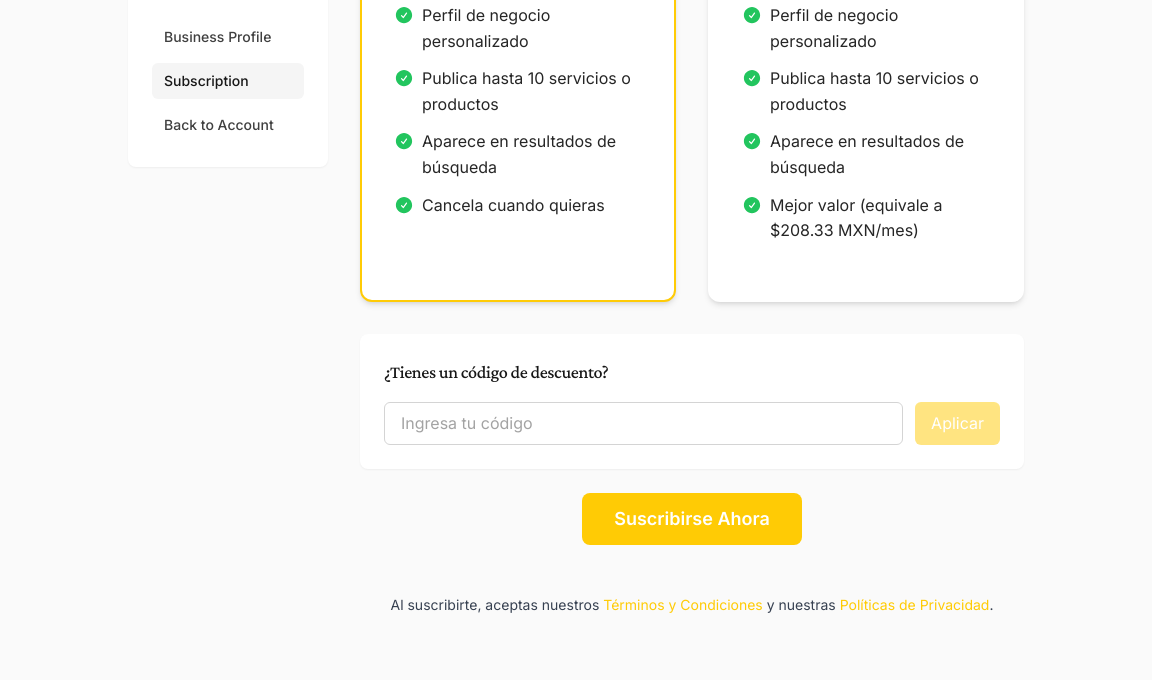
Coupon Functionality › validates AMIGOSSLPWAY coupon successfully
(page scrolled)
Note: Enter the coupon code
Type "AMIGOSSLPWAY" into the field with placeholder "Ingresa tu código". click: (644, 424)
box: x1=384 y1=402 x2=903 y2=445
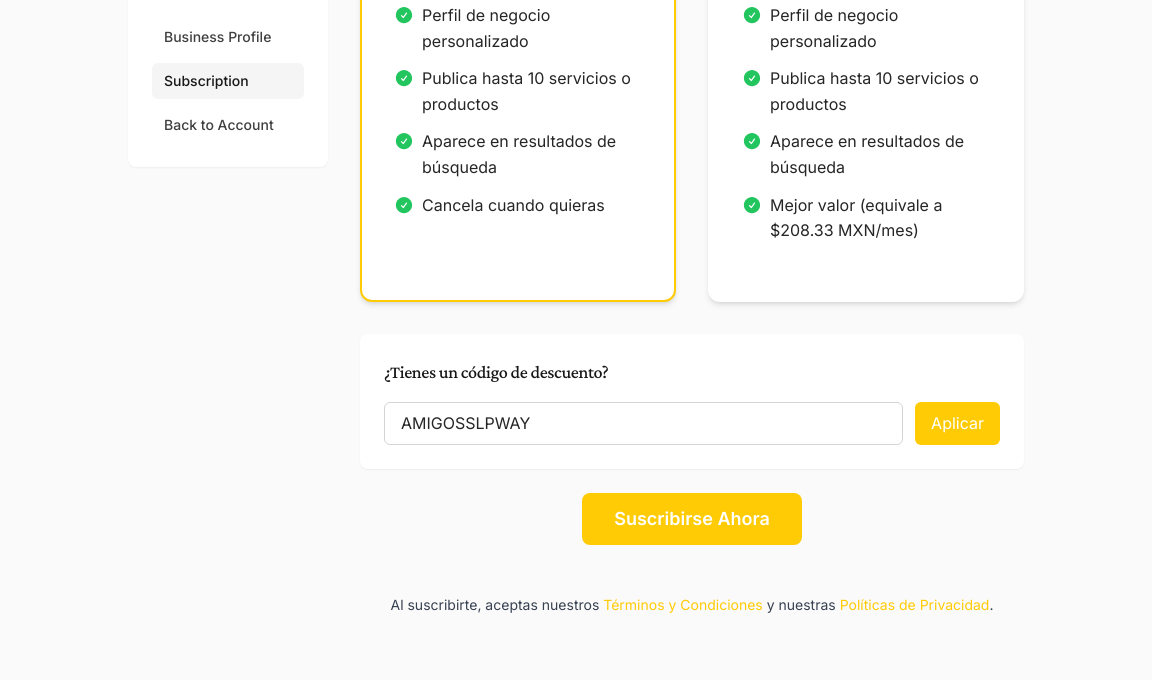
Click the button "Aplicar". click: (958, 424)
box: x1=915 y1=402 x2=1000 y2=445
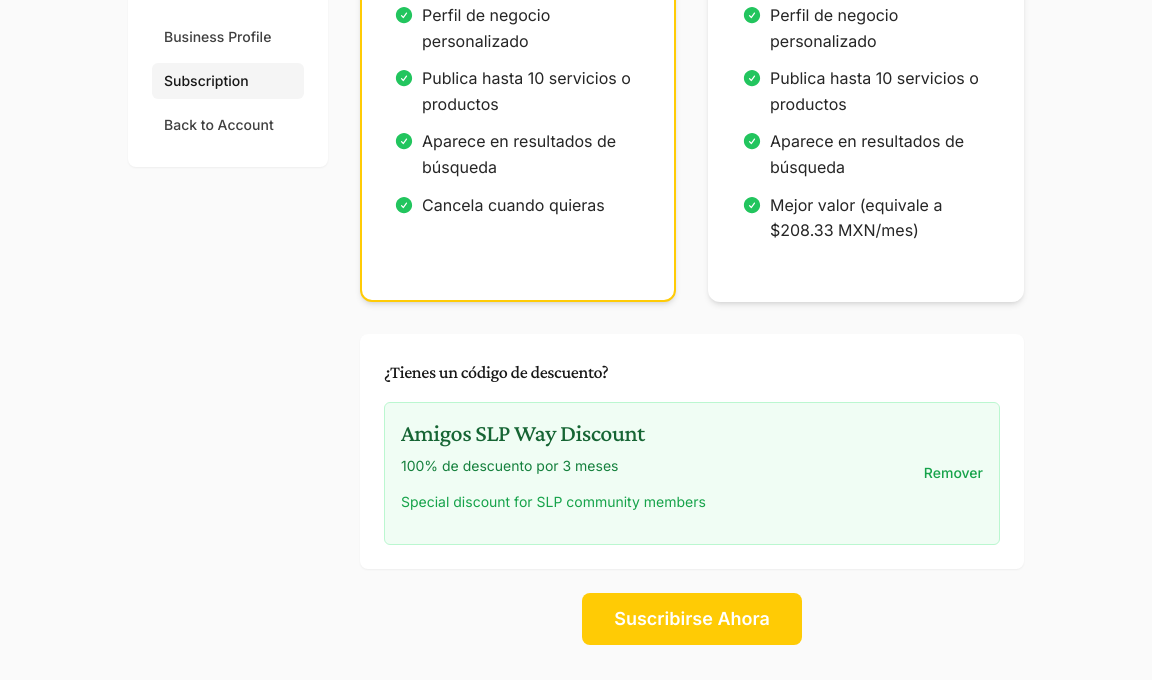
Expected: the heading "Amigos SLP Way Discount" is shown, x1=401 y1=419 x2=645 y2=446
Expected: the text "100% de descuento por 3 meses" is shown, x1=401 y1=456 x2=618 y2=474
